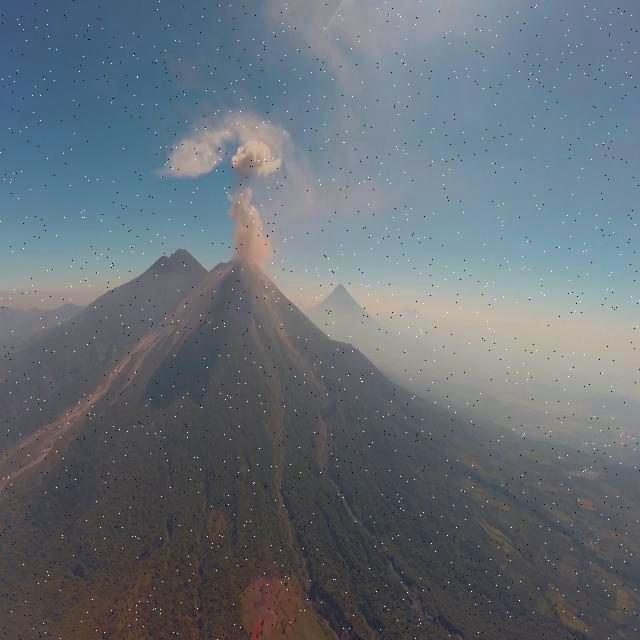Plume: (228, 183, 274, 266), (160, 122, 221, 180), (232, 138, 282, 181)
